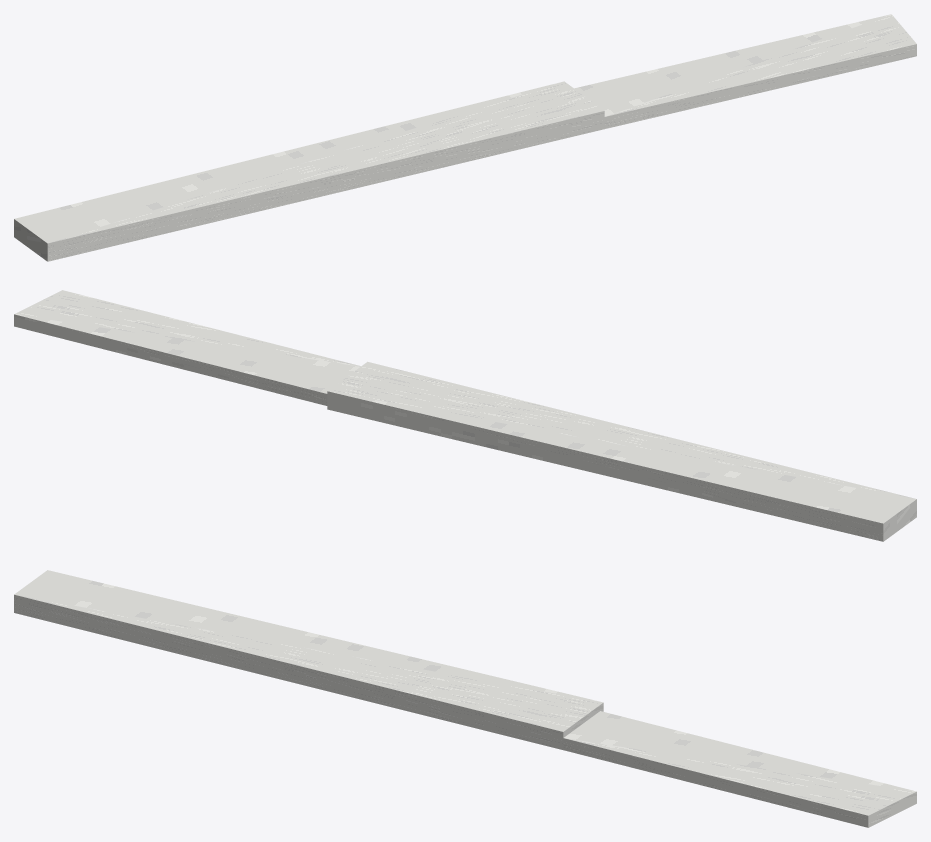
File: plastic_knife.glb
3 views of the same model, one above another, from view 1: azimuth 30°, elevation 25°; view 2: azimuth 150°, elevation 25°; view 3: azimuth 330°, elevation 25° (orthographic).
Parts seen in each view (by area): view 1: block_handle, block_blade; view 2: block_handle, block_blade; view 3: block_handle, block_blade.
Part boxes in pixels (left/top/right/bottom): block_handle: left=14, top=81, right=604, bottom=261; block_blade: left=574, top=14, right=916, bottom=128; block_handle: left=327, top=361, right=916, bottom=541; block_blade: left=14, top=290, right=360, bottom=405; block_handle: left=14, top=570, right=603, bottom=749; block_blade: left=563, top=711, right=916, bottom=827.
Bounding box in the file's own units: 0.15 × 0.003 × 0.013.
1 material, 1 textured.
